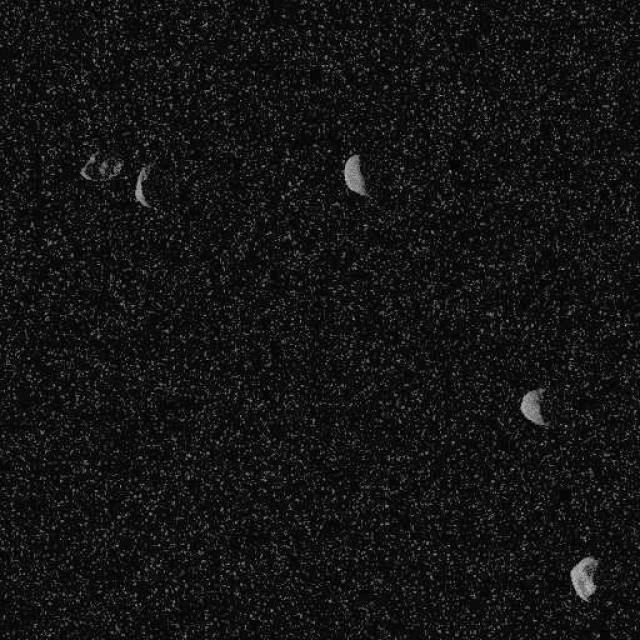D2: (78, 150, 122, 182), (569, 555, 599, 601), (341, 152, 369, 198), (518, 386, 548, 426), (132, 162, 154, 208)
